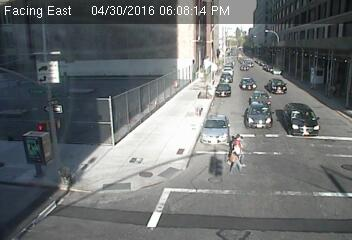neg: (19, 125, 40, 154), (96, 89, 114, 112)
pos: (213, 132, 248, 178)
